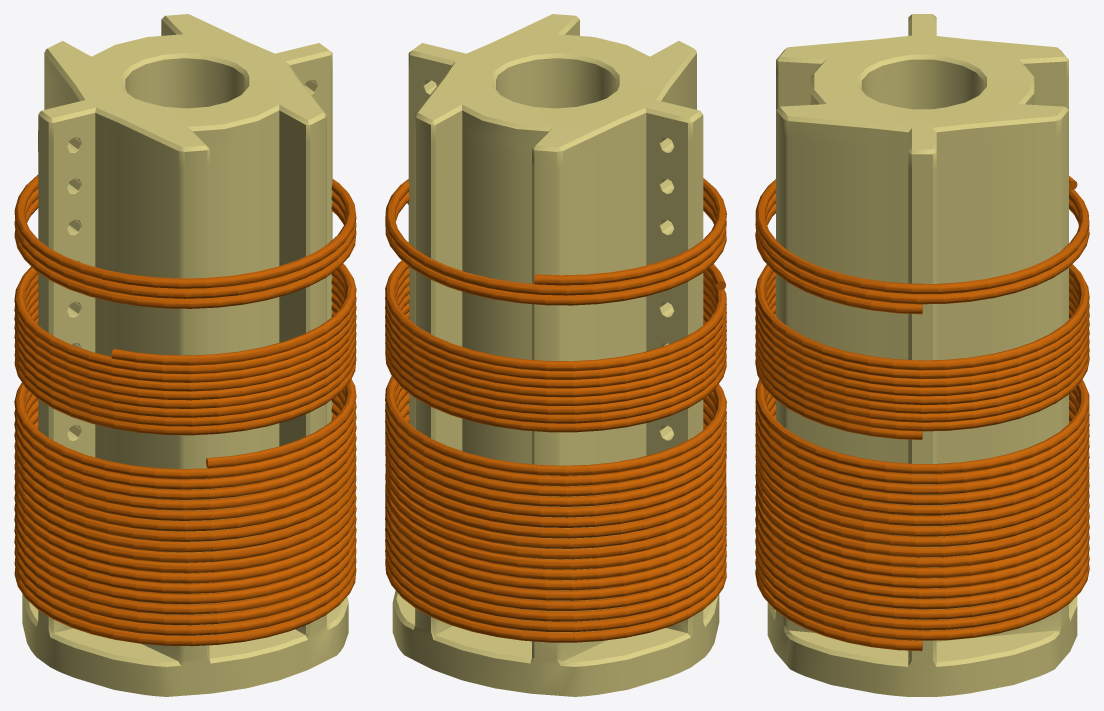
The model's file is ind014.fbx.
The picture shows the model from 3 angles, left to right: view 1: azimuth 30°, elevation 25°; view 2: azimuth 150°, elevation 25°; view 3: azimuth 270°, elevation 25°; orthographic projection.
Visible parts, largest first — view 1: ind014_LOD0; view 2: ind014_LOD0; view 3: ind014_LOD0.
Part boxes in pixels (x1,y1,x2,y2): ind014_LOD0: (14,14,356,696); ind014_LOD0: (385,14,726,696); ind014_LOD0: (755,14,1089,696).
Size of what is drawn, in the model's own units: 1.38 by 2.42 by 1.35.
